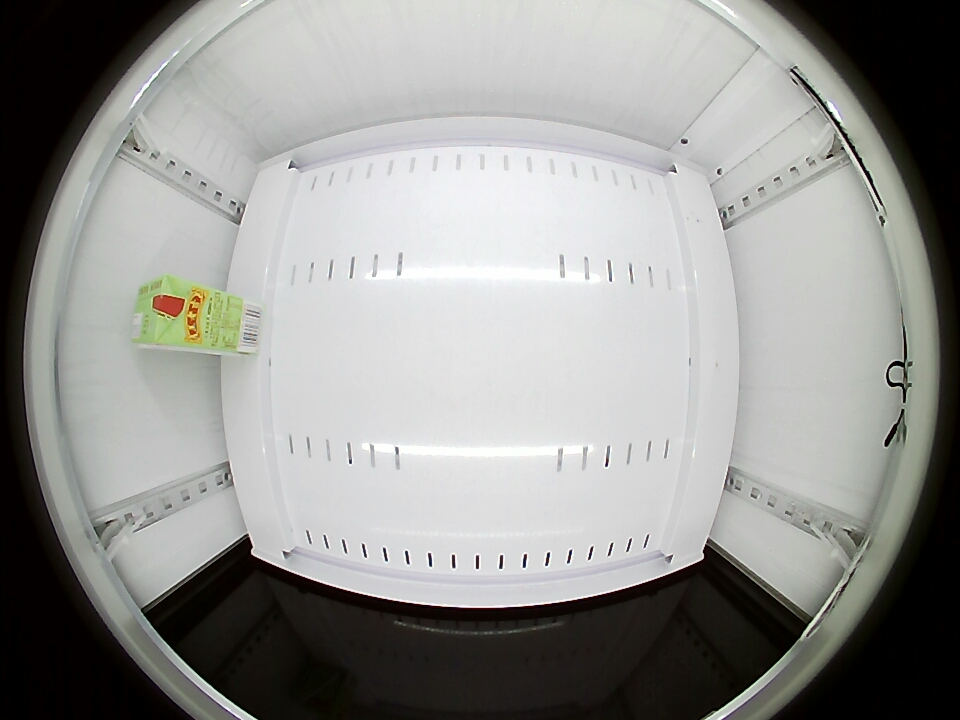wanglaoji: (133, 275, 202, 349)
